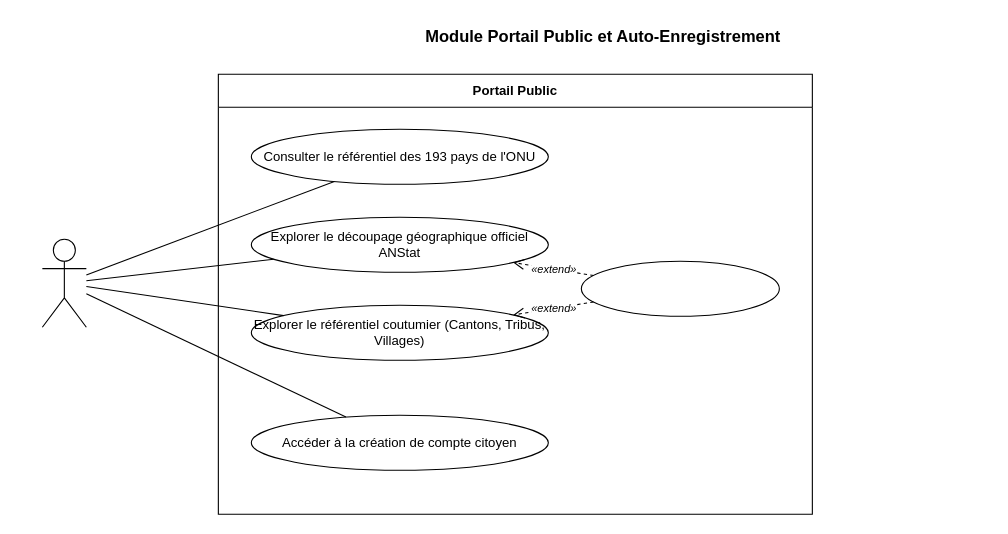
Image size: 1008x534. Some labels were removed from this diagram. The centre of each missing label's shape, as x and y in pixels:
Rechercher une localité ou entité administrative: point 679,288
Visiteur simple (Non connecté): point 63,282
